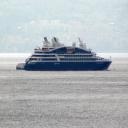cruises: (16, 35, 116, 75)
